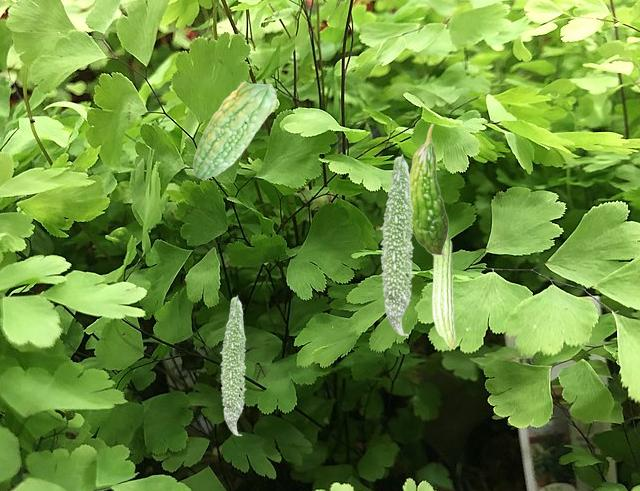ampalaya: (192, 81, 277, 180), (379, 153, 415, 336), (409, 123, 449, 258), (219, 294, 247, 436), (431, 235, 455, 349)
